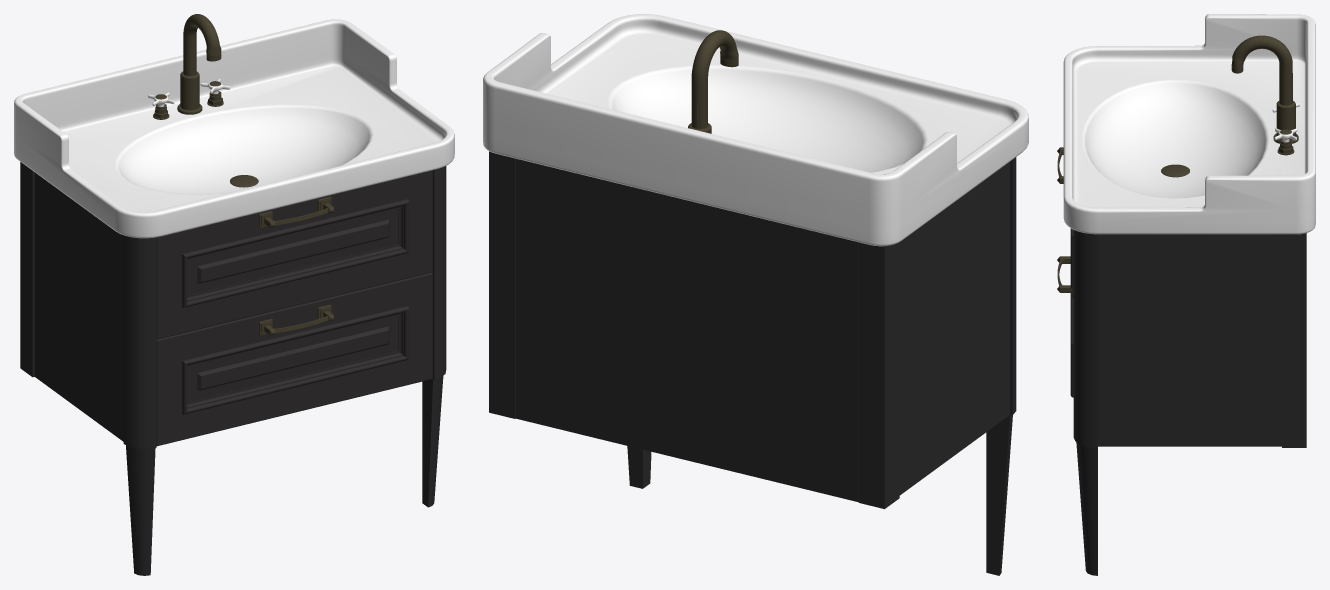
File: umivalnik s dvumya yashikami.FBX
3 renders of one model, left to right at view 1: azimuth 30°, elevation 25°; view 2: azimuth 150°, elevation 25°; view 3: azimuth 270°, elevation 25°, orthographic. The views are drawn at different scales.
Visible parts, largest first — view 1: Group001, frgt10.frgt015; view 2: Group001, frgt10.frgt015; view 3: Group001, frgt10.frgt015.
Boxes of the visible parts, <box> form: Group001: <box>14,19,454,575</box>; frgt10.frgt015: <box>148,14,230,119</box>; Group001: <box>483,14,1028,575</box>; frgt10.frgt015: <box>688,30,738,133</box>; Group001: <box>1057,14,1315,575</box>; frgt10.frgt015: <box>1231,35,1299,155</box>.
Size of the model in its own units: 31.94 by 41.95 by 21.11.
